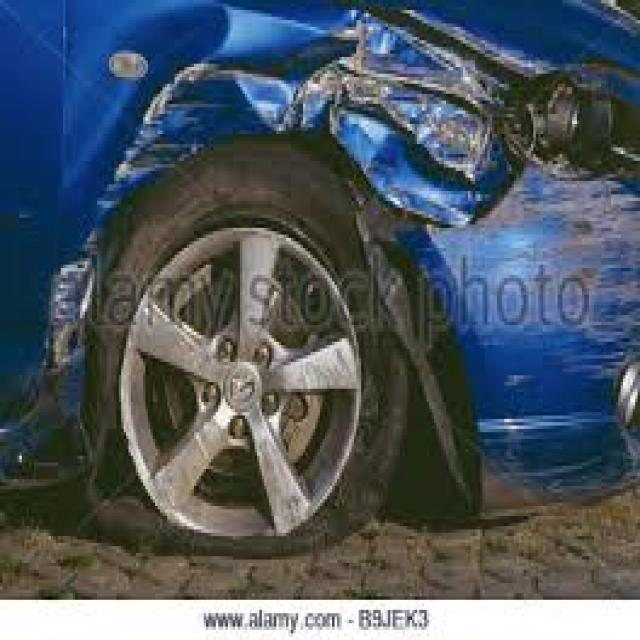severe: (39, 0, 630, 513)
